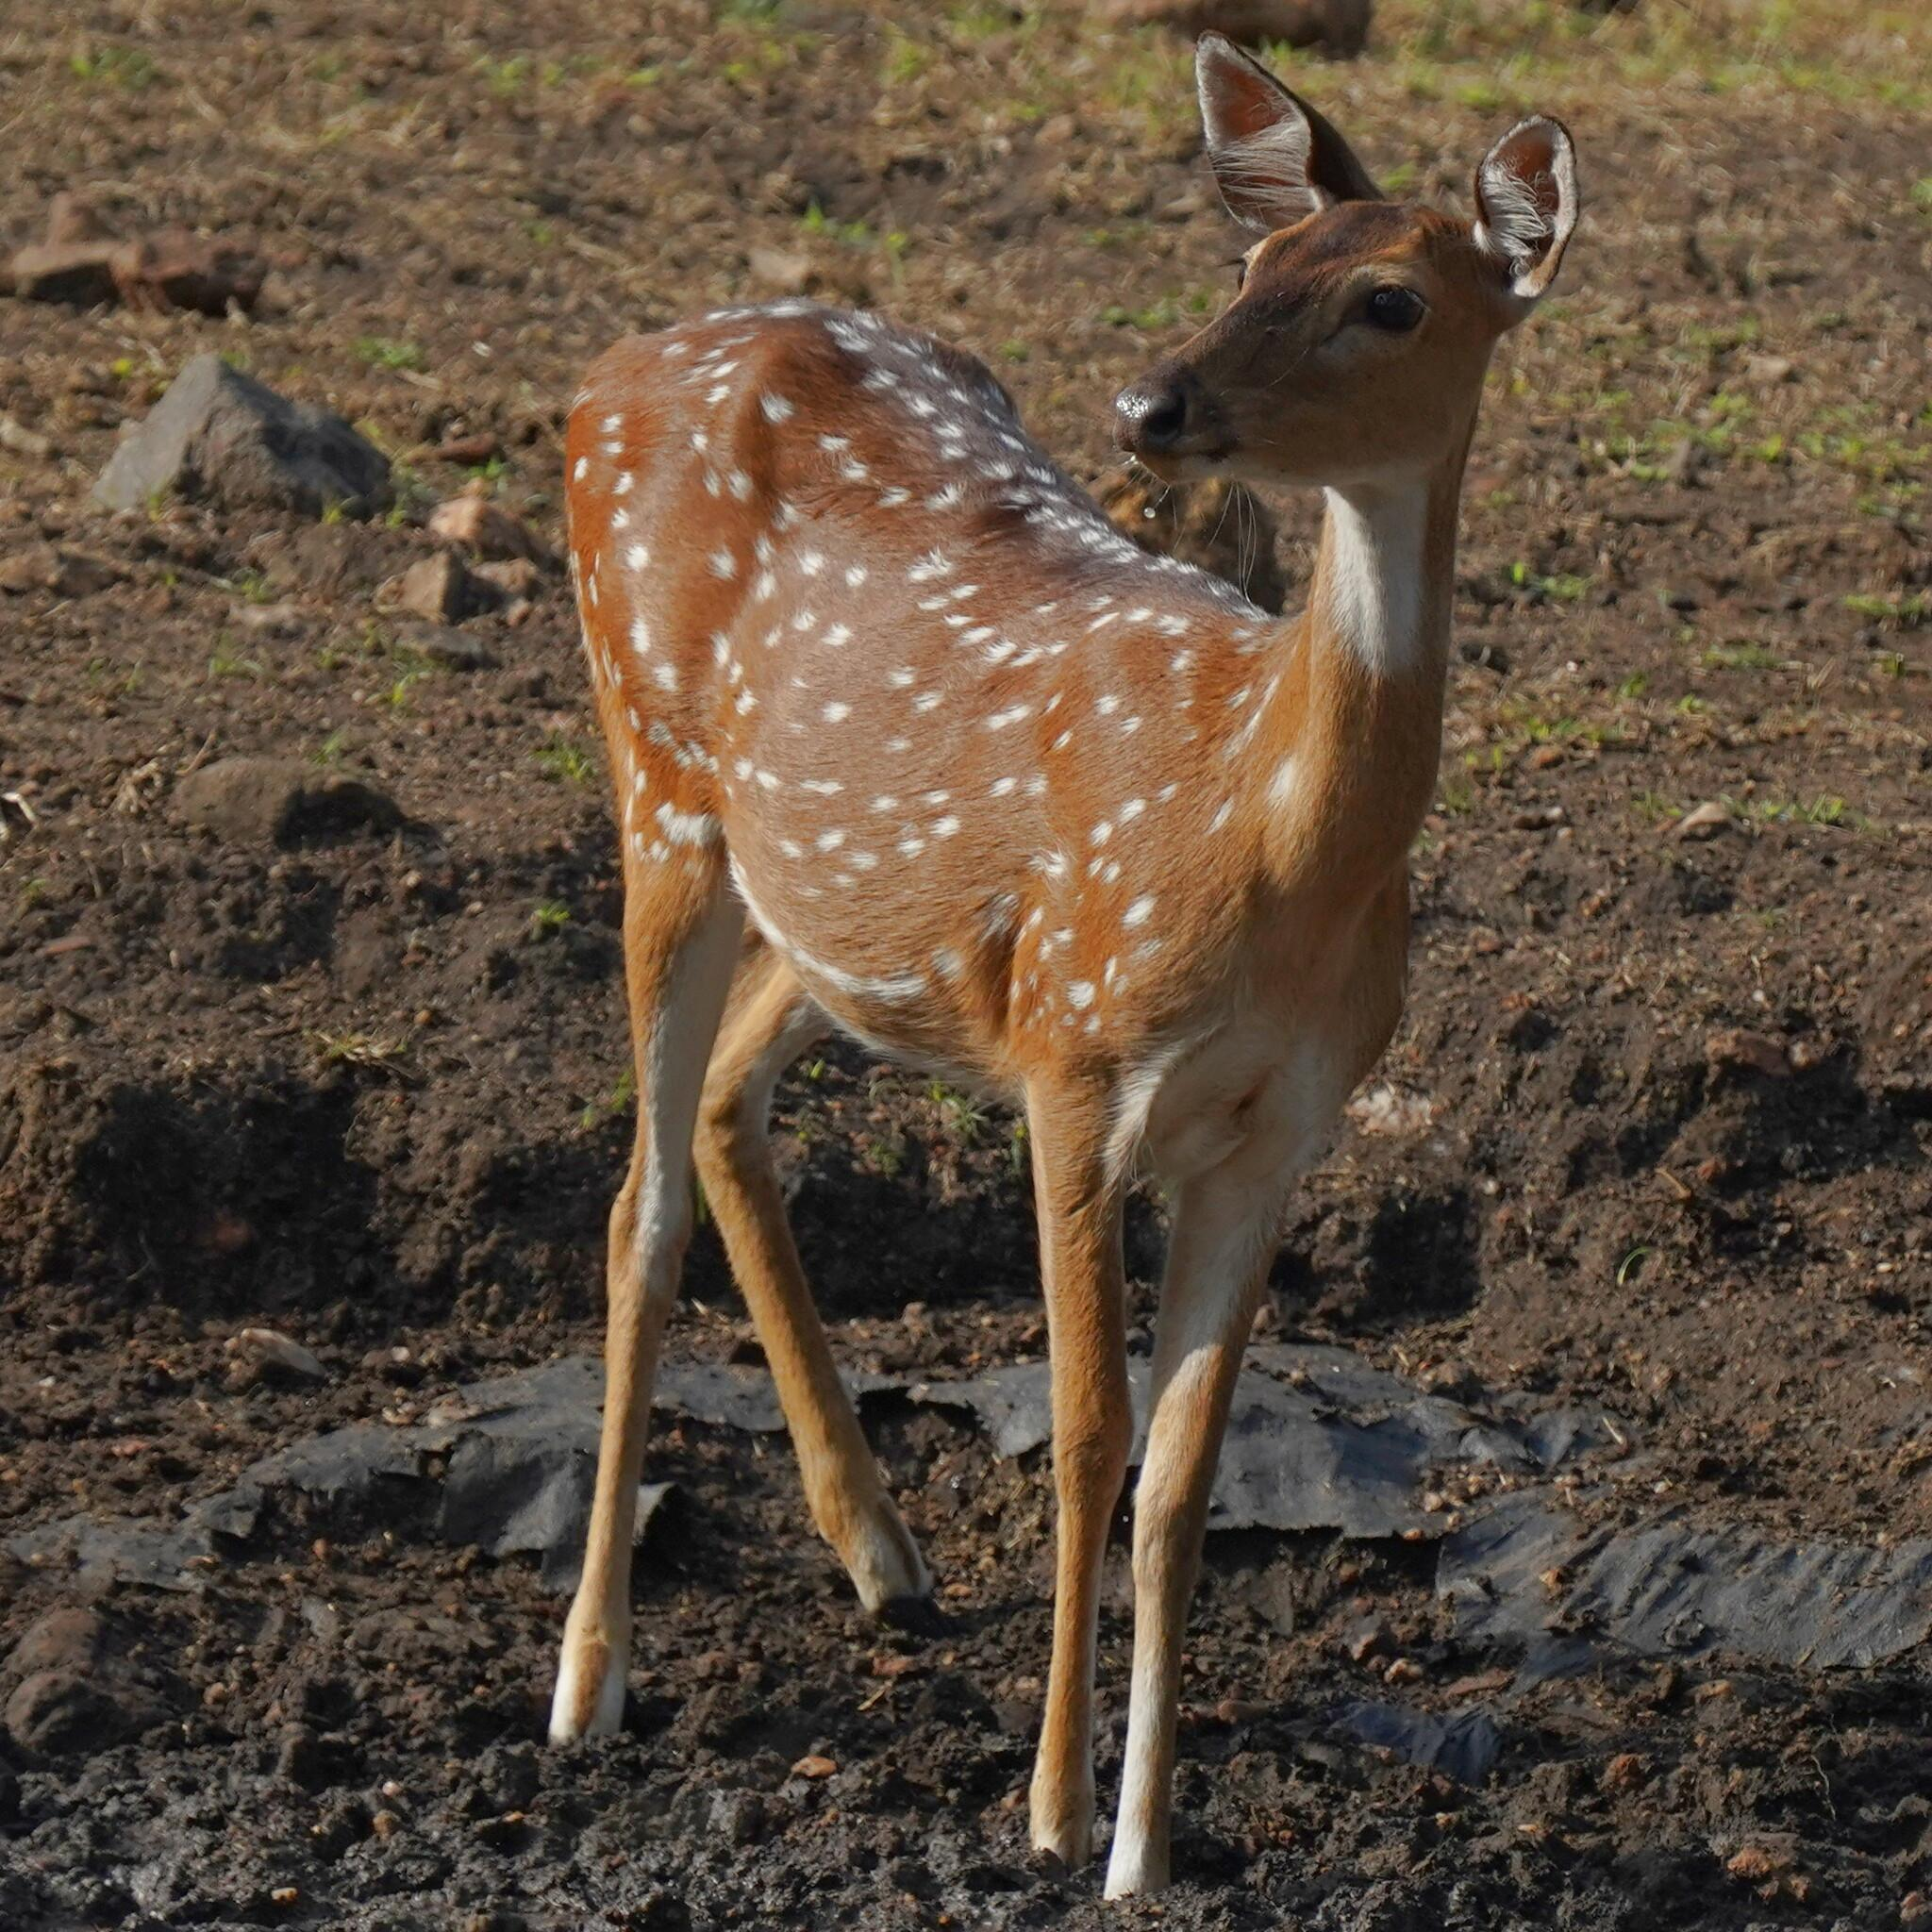Deer: (550, 41, 1578, 1898)
